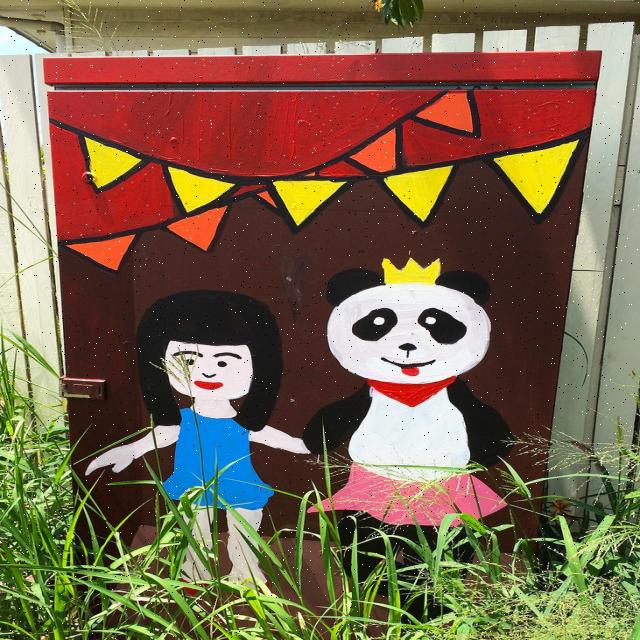panda: (300, 267, 512, 593)
